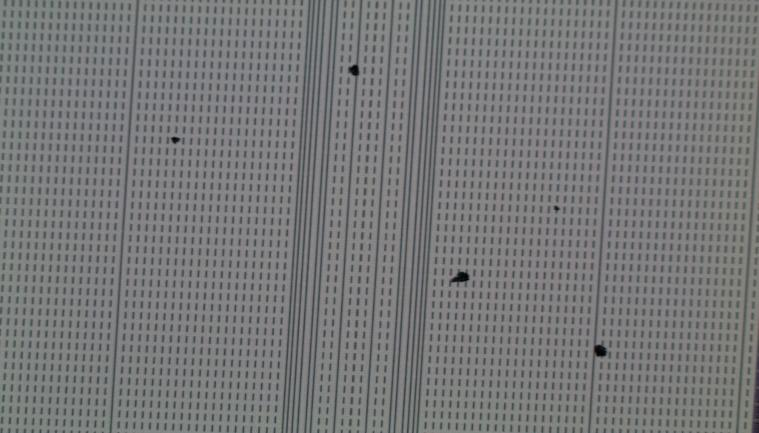PO CONTAMINATION: (166, 61, 614, 362)
